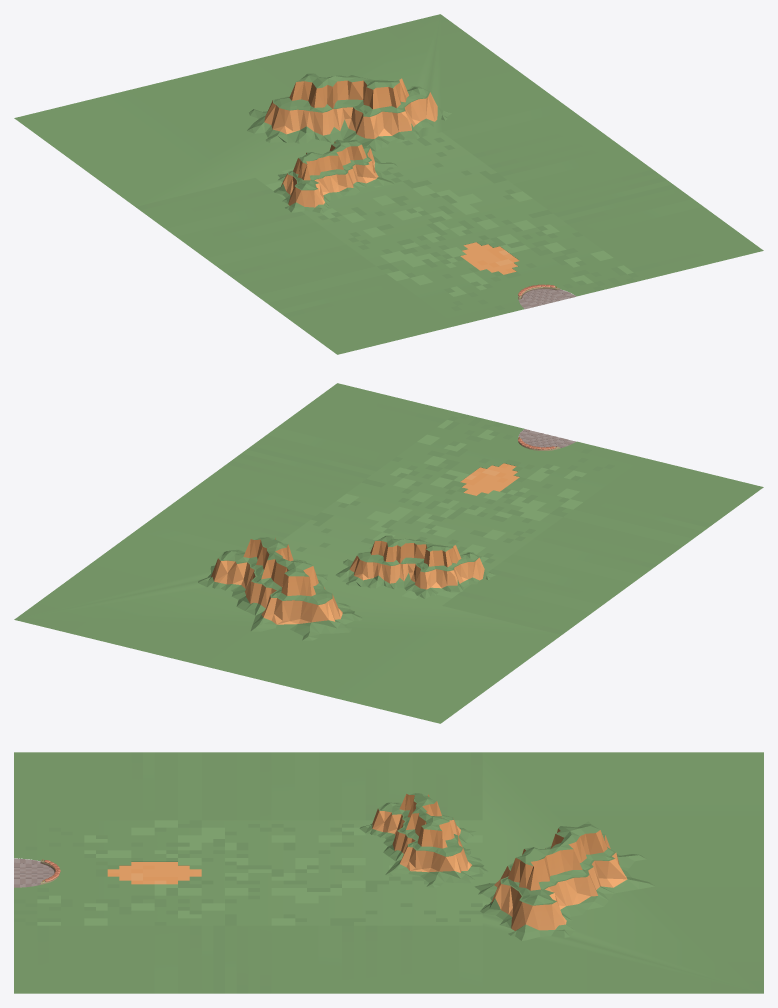
Rendered from Scene_Shoot.fbx.
The picture shows the model from 3 angles, top to bottom: view 1: azimuth 30°, elevation 25°; view 2: azimuth 150°, elevation 25°; view 3: azimuth 270°, elevation 25°; orthographic projection. The views are drawn at different scales.
Visible parts, largest first — view 1: Plane, mountains, mountains.001, UnderLauncher; view 2: Plane, mountains, mountains.001, UnderLauncher; view 3: Plane, mountains, mountains.001, UnderLauncher.
Boxes of the visible parts, box(x1,y1,x2,y2) form: Plane: box(14, 14, 763, 354); mountains: box(247, 73, 451, 151); mountains.001: box(273, 138, 397, 212); UnderLauncher: box(518, 289, 576, 309); Plane: box(14, 383, 763, 723); mountains: box(198, 537, 362, 640); mountains.001: box(335, 535, 495, 598); UnderLauncher: box(518, 429, 575, 448); Plane: box(14, 752, 763, 993); mountains: box(474, 821, 654, 940); mountains.001: box(359, 793, 488, 887); UnderLauncher: box(14, 858, 54, 887).
Size of the model in its own units: 16475 by 1675 by 21634.
